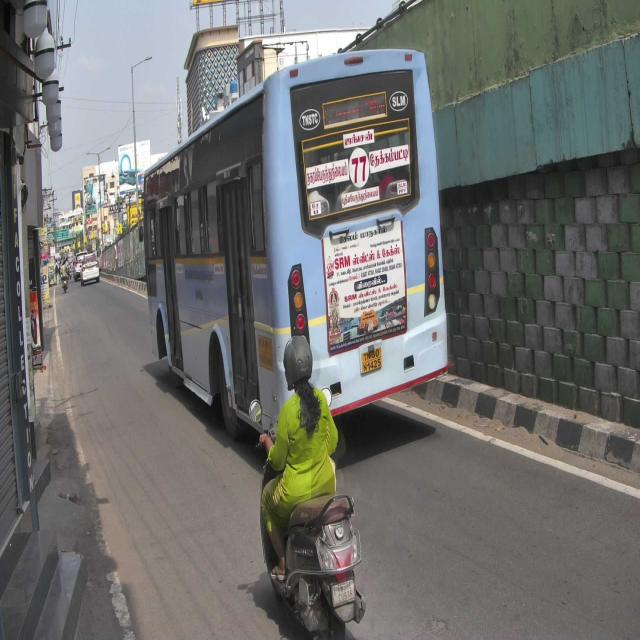single_rider: (248, 334, 368, 640)
